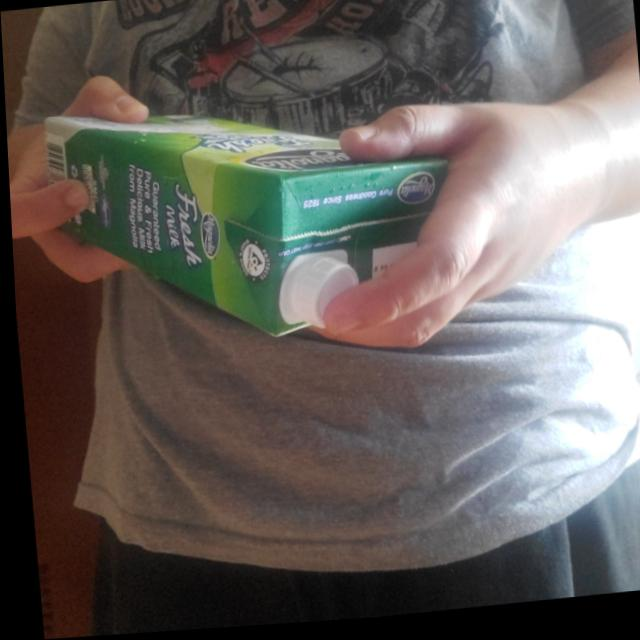milk: (40, 78, 498, 364)
